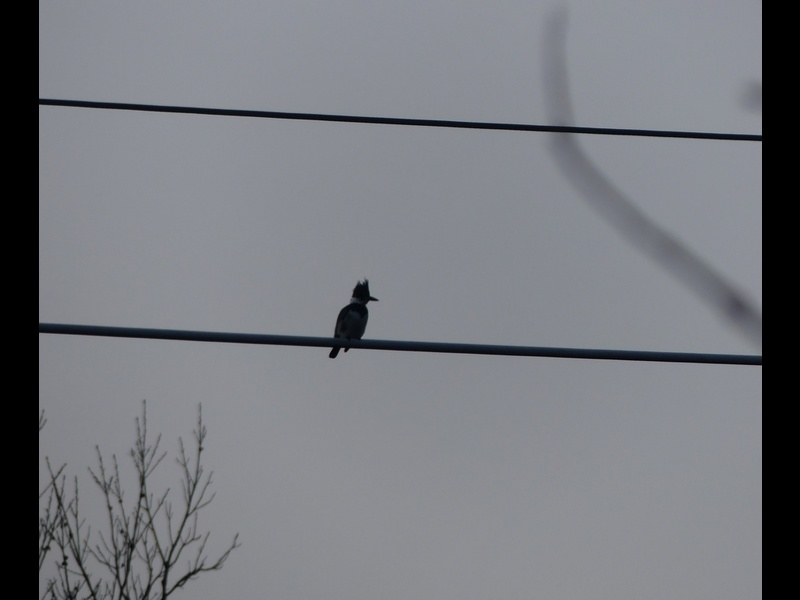kingfisher: (328, 279, 379, 361)
